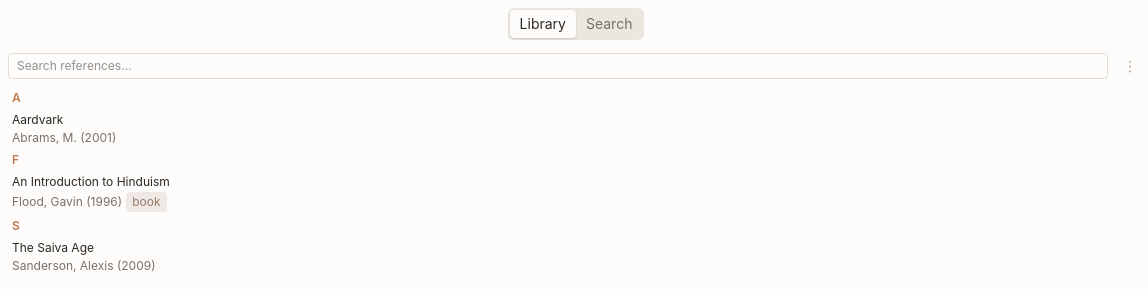
ReferenceLibrary › search matches tags
Expected: the text "The Saiva Age" is shown, [12,240,94,255]
Step 1. Type "tantra" into the field labelled "Search references" → (558, 66), box [8,53,1108,79]
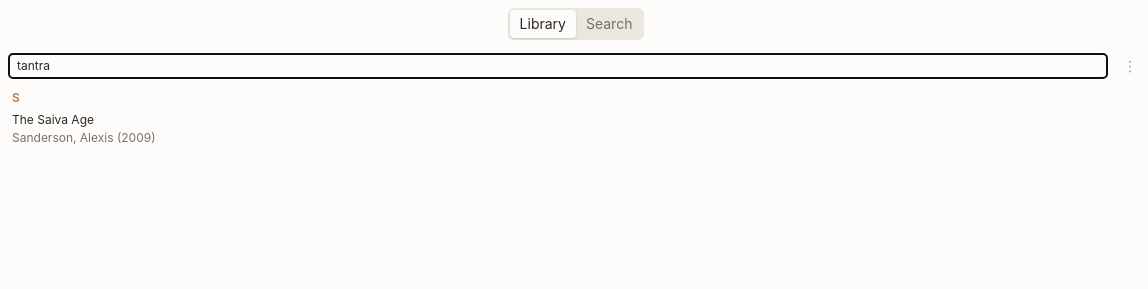
Expected: the text "The Saiva Age" is shown, [12,112,94,127]
Expected: the button "Aardvark" is gone
